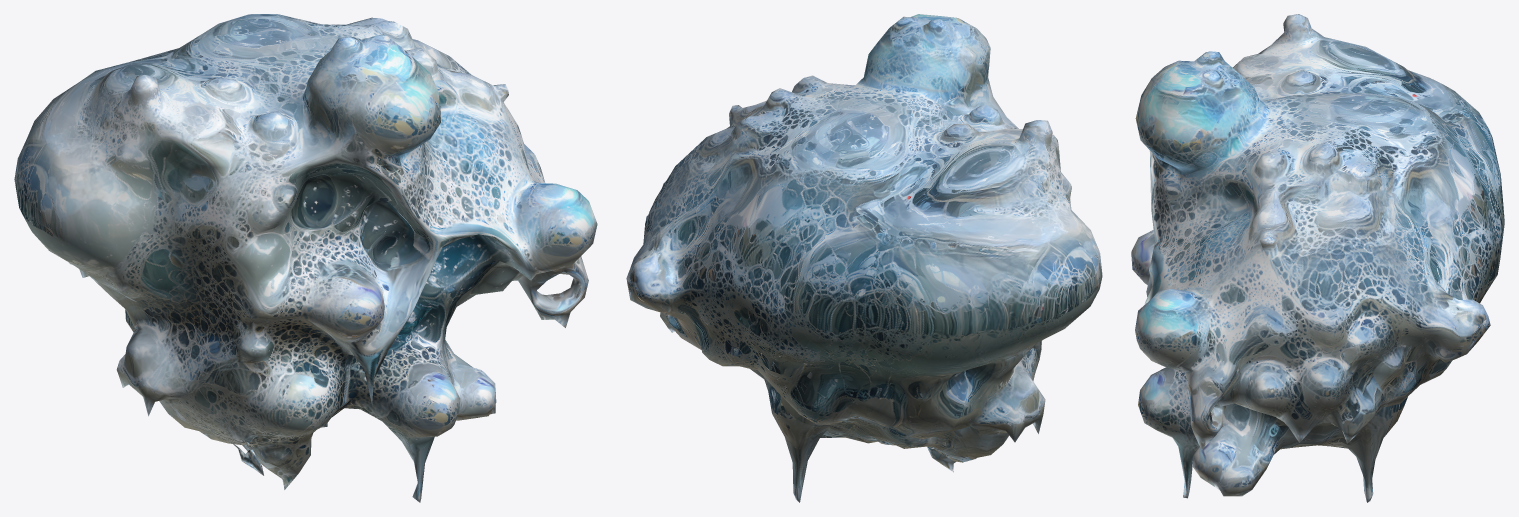
The model's file is sample_detergent.fbx.
The picture shows the model from 3 angles, left to right: view 1: azimuth 30°, elevation 25°; view 2: azimuth 150°, elevation 25°; view 3: azimuth 270°, elevation 25°; orthographic projection. The views are drawn at different scales.
Parts seen in each view (by area): view 1: input; view 2: input; view 3: input.
Boxes of the visible parts, x1,y1,x2,y2 form: input: [14, 14, 597, 502]; input: [626, 14, 1102, 502]; input: [1131, 14, 1504, 502].
Size of the model in its own units: 99.7 by 92.35 by 73.92.
1 material, 1 textured.
